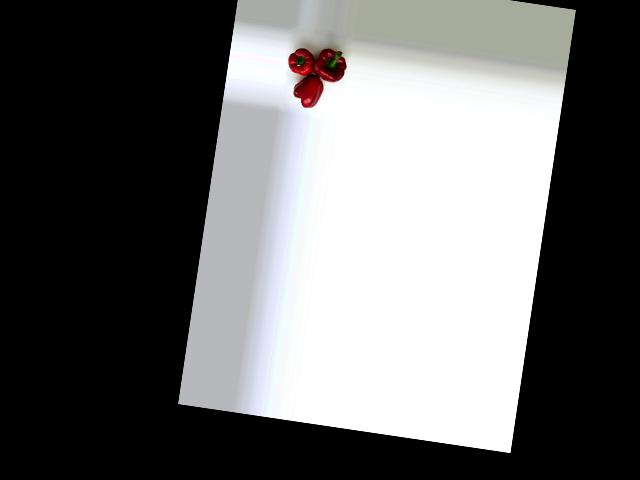bell_pepper: (285, 70, 327, 114)
